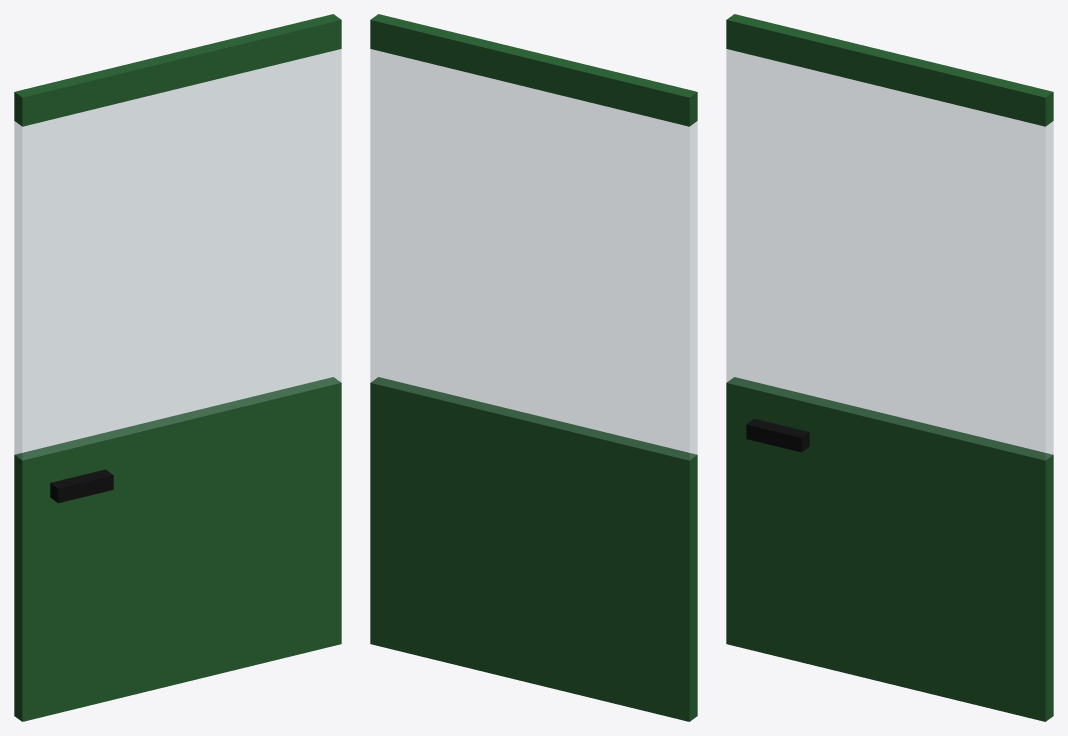
File: tractor_cab_door.glb
3 renders of one model, left to right at view 1: azimuth 30°, elevation 25°; view 2: azimuth 150°, elevation 25°; view 3: azimuth 330°, elevation 25°, orthographic.
Visible parts, largest first — view 1: body:compound; view 2: body:compound; view 3: body:compound.
Boxes of the visible parts, x1,y1,x2,y2 form: body:compound: (14, 14, 341, 721); body:compound: (370, 14, 697, 721); body:compound: (726, 14, 1053, 721).
Bounding box in the file's own units: 0.7188 × 1.34 × 0.0625.
